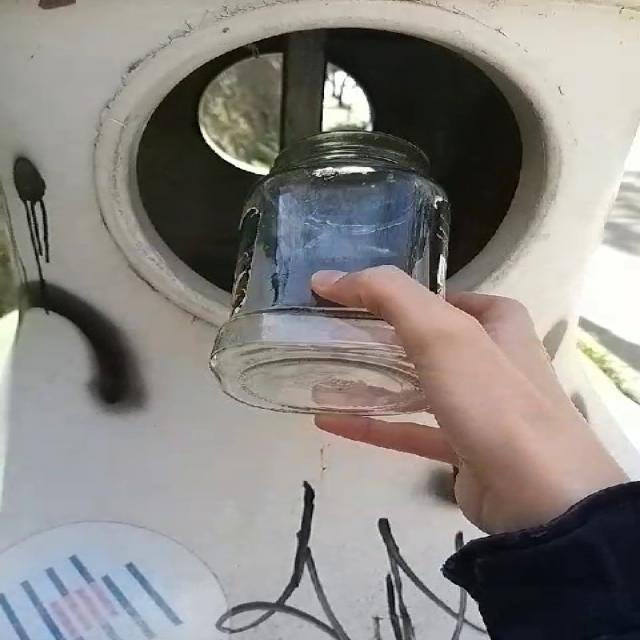Glass: (211, 132, 449, 415)
